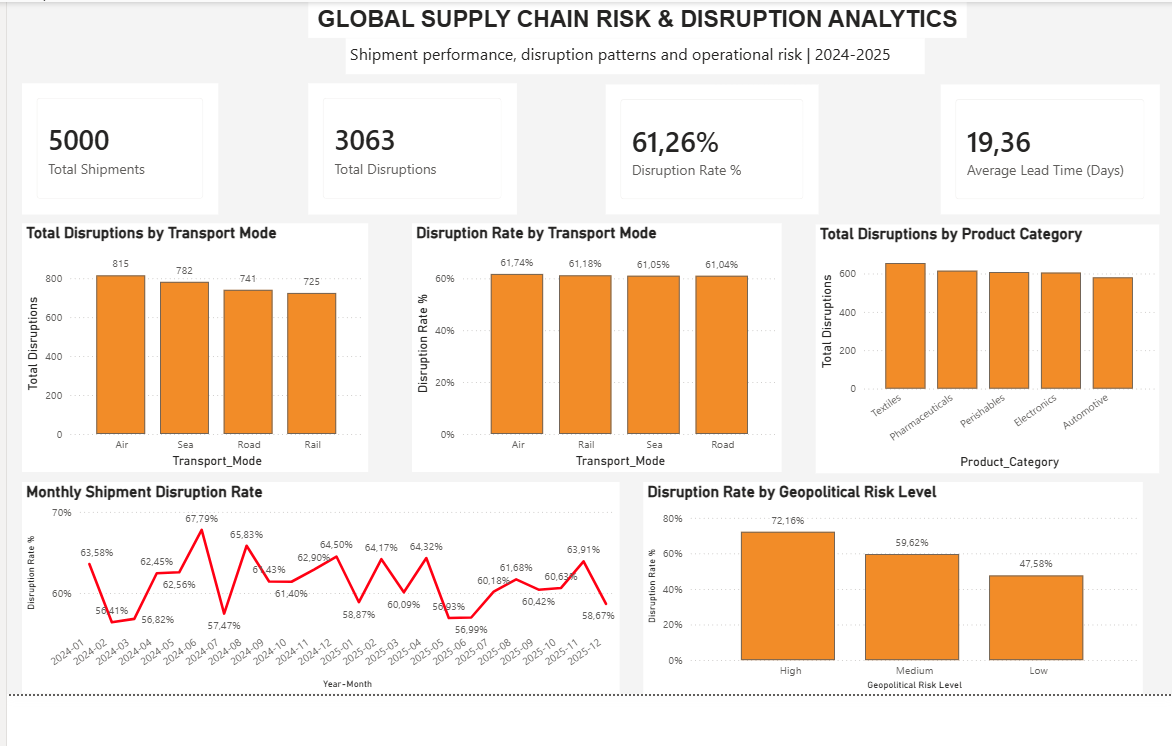

What the dashboard file says about the page in this screenshot:
{"tool":"powerbi","page":{"name":"Supply Chain Overview","canvas":[1350,801],"ordinal":0},"visuals":[{"type":"textbox","box":[348.8,0,762.7,42],"z":0},{"type":"textbox","box":[392.2,42,670.1,42],"z":1000},{"type":"cardVisual","fields":{"Data":["Dashboard Measures.Total Shipments"]},"box":[17.4,94.1,227.2,152],"z":2000},{"type":"cardVisual","fields":{"Data":["Dashboard Measures.Total Disruptions"]},"box":[348.8,94.1,241.7,152],"z":3000},{"type":"cardVisual","fields":{"Data":["Dashboard Measures.Average Lead Time (Days)"]},"box":[1081.1,95.5,253.3,150.5],"z":4000},{"type":"cardVisual","fields":{"Data":["Dashboard Measures.Disruption Rate %"]},"box":[693.2,95.5,246,150.5],"z":5000},{"type":"columnChart","title":"Total Disruptions by Transport Mode","fields":{"Category":["Shipments.Transport_Mode"],"Y":["Dashboard Measures.Total Disruptions"]},"box":[17.4,256.2,400.9,288],"z":6000},{"type":"clusteredColumnChart","title":"Disruption Rate by Transport Mode","fields":{"Category":["Shipments.Transport_Mode"],"Y":["Dashboard Measures.Disruption Rate %"]},"box":[468.9,256.2,428.4,288],"z":7000},{"type":"clusteredColumnChart","title":"Total Disruptions by Product Category","fields":{"Category":["Shipments.Product_Category"],"Y":["Dashboard Measures.Total Disruptions"]},"box":[936.4,257.6,398,288],"z":8000},{"type":"lineChart","title":"Monthly Shipment Disruption Rate","fields":{"Y":["Dashboard Measures.Disruption Rate %"],"Category":["Shipments.Year-Month"]},"box":[17.4,555.7,691.8,244.6],"z":9000},{"type":"clusteredColumnChart","title":"Disruption Rate by Geopolitical Risk Level","fields":{"Category":["Shipments.Geopolitical Risk Level"],"Y":["Dashboard Measures.Disruption Rate %"]},"box":[737.3,555,578.2,246.2],"z":10000}]}

Visuals, with their boxes on the page's 1350x801 design canvas (x1, y1, x2, y2). These are canvas units, not pixel positions in the 1172x746 screenshot, which may show the page scaled, cropped or inside an application window:
textbox: 349,0,1112,42
textbox: 392,42,1062,84
cardVisual - Dashboard Measures.Total Shipments: 17,94,245,246
cardVisual - Dashboard Measures.Total Disruptions: 349,94,590,246
cardVisual - Dashboard Measures.Average Lead Time (Days): 1081,96,1334,246
cardVisual - Dashboard Measures.Disruption Rate %: 693,96,939,246
"Total Disruptions by Transport Mode" columnChart: 17,256,418,544
"Disruption Rate by Transport Mode" clusteredColumnChart: 469,256,897,544
"Total Disruptions by Product Category" clusteredColumnChart: 936,258,1334,546
"Monthly Shipment Disruption Rate" lineChart: 17,556,709,800
"Disruption Rate by Geopolitical Risk Level" clusteredColumnChart: 737,555,1316,801
